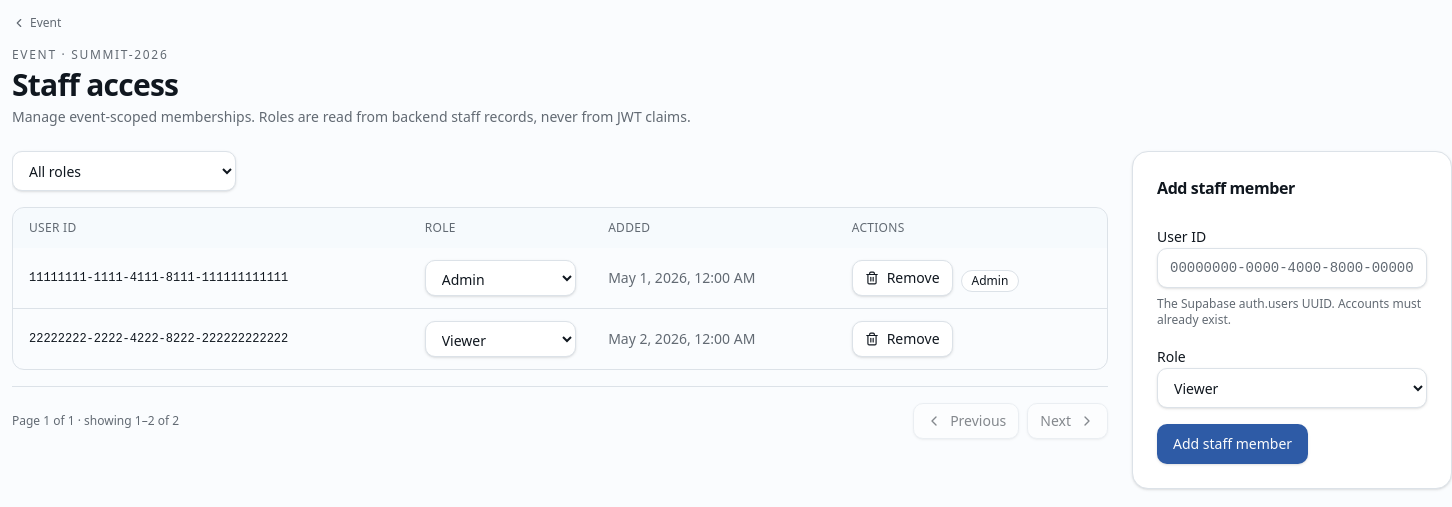
Test: staff management › validates the staff create form before calling the API
Check: the text "11111111-1111-4111-8111-111111111111" is shown, box [13,248,409,308]
Type "not-a-uuid" into the field labelled "User ID" at (1292, 268), box [1157,248,1427,288]
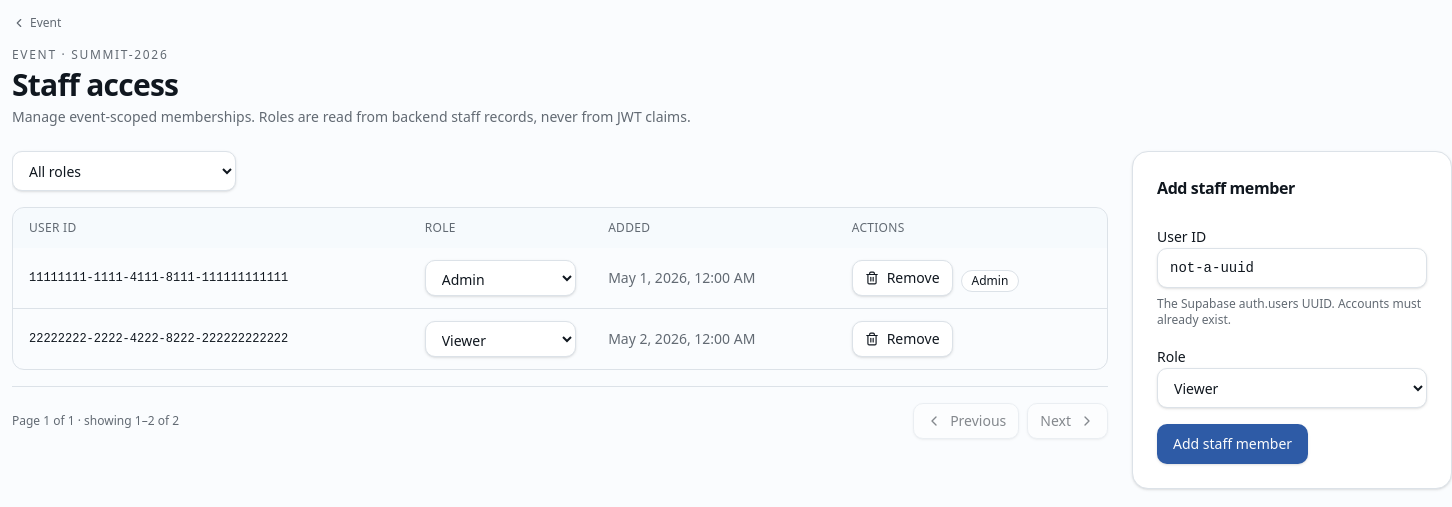
Click the button "Add staff member" at (1233, 444), box [1157,424,1308,464]
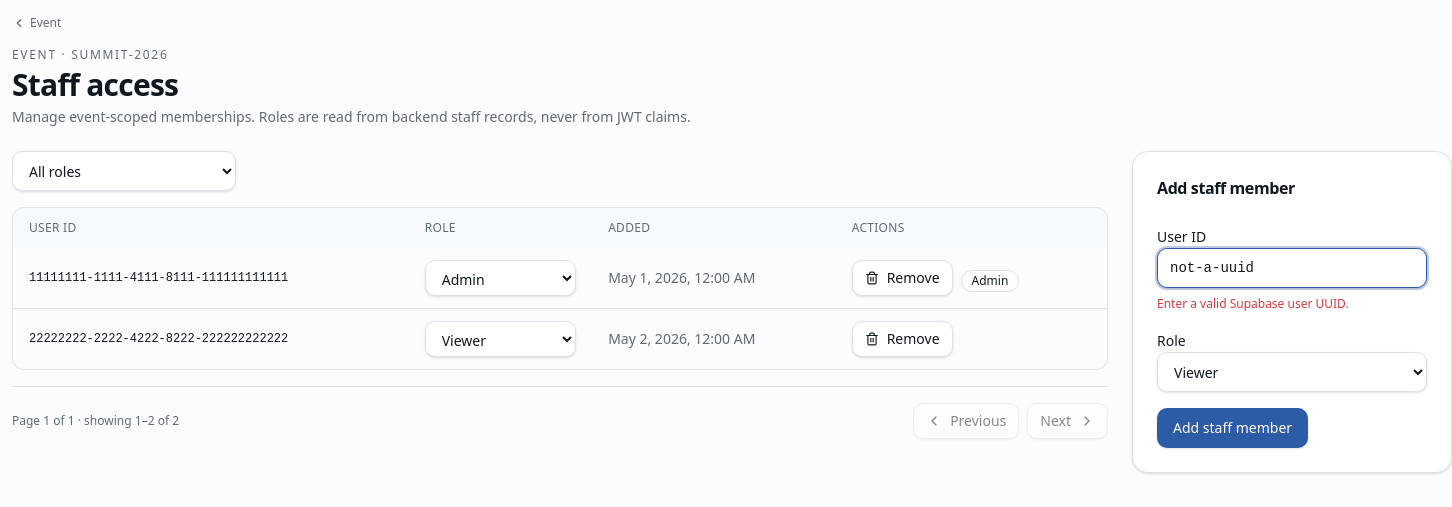
Check: the text "Enter a valid Supabase user UUID." is shown, box [1157,295,1349,312]
